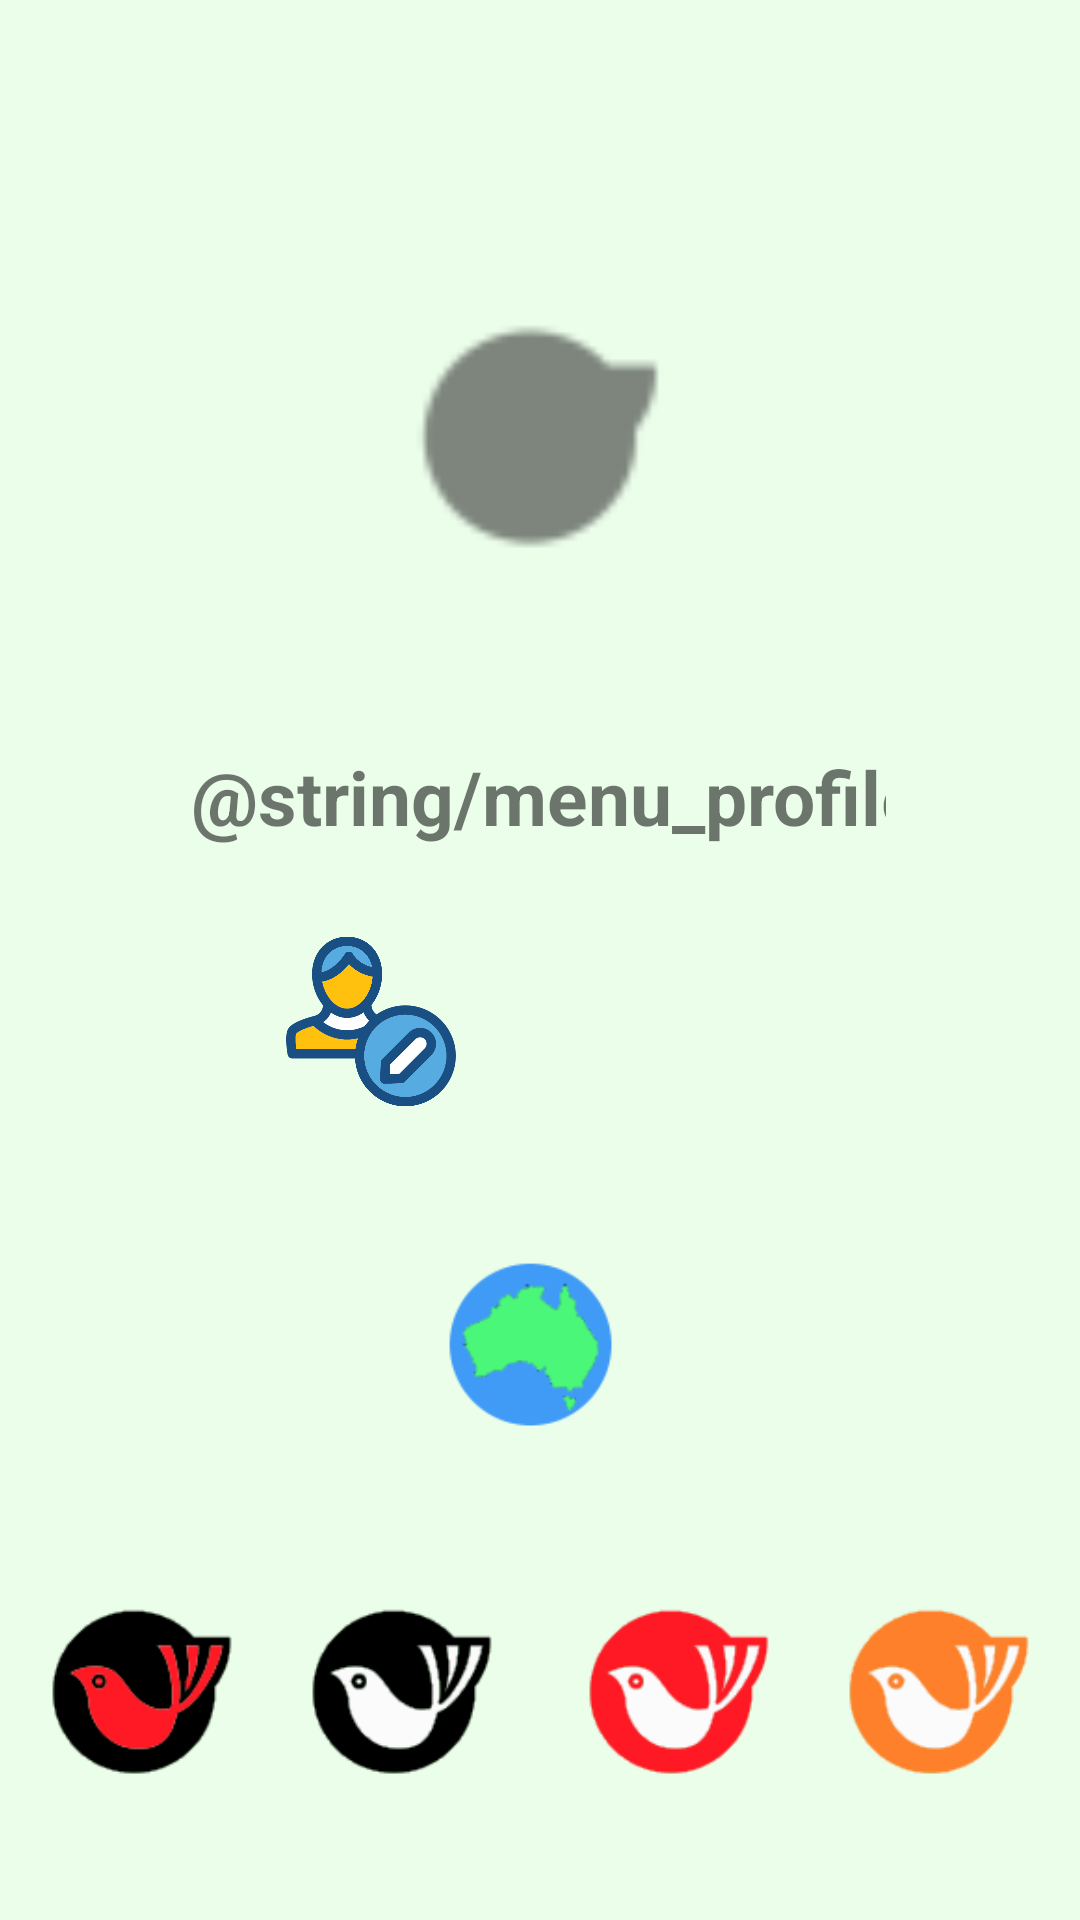

Where icons sit on this 1080 × 1920 app screen, as (left=x1, top=y1, right=x2, bottom=y2):
critically endangered: (left=589, top=1610, right=769, bottom=1774)
editprofileicon: (left=286, top=937, right=456, bottom=1106)
endangered: (left=849, top=1610, right=1029, bottom=1774)
extinct: (left=52, top=1610, right=232, bottom=1774)
extinct in wild: (left=312, top=1610, right=492, bottom=1774)
nativee: (left=449, top=1263, right=612, bottom=1426)
